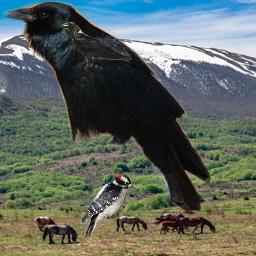Crow: (3, 1, 212, 214), (60, 22, 132, 70)
Woodpecker: (81, 174, 138, 239)
